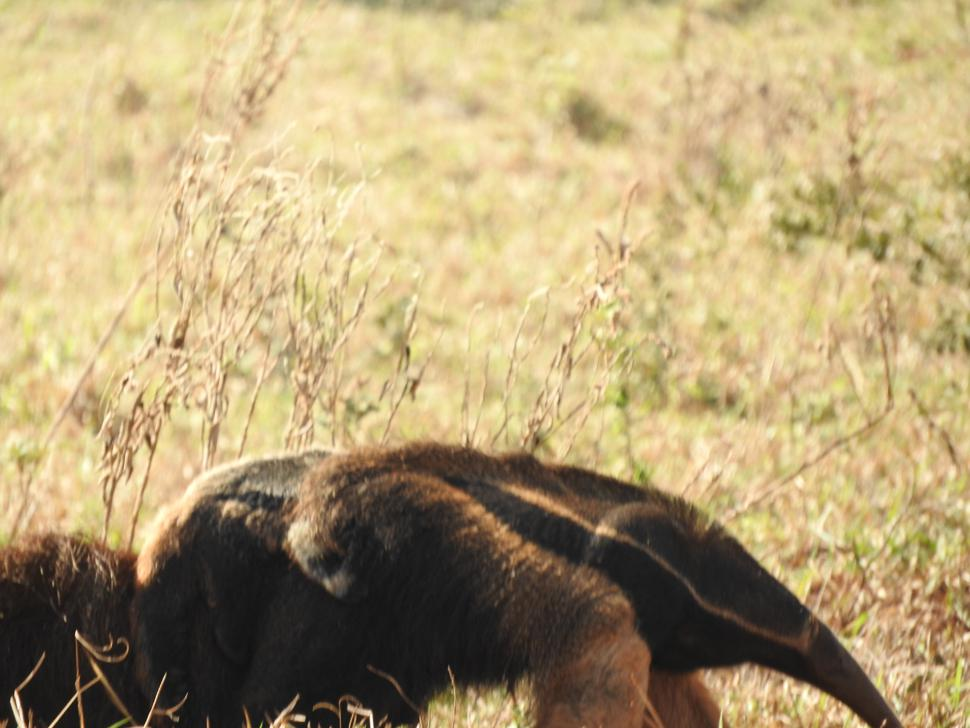TamanduaBandeira: (18, 451, 902, 725), (126, 457, 373, 693)
